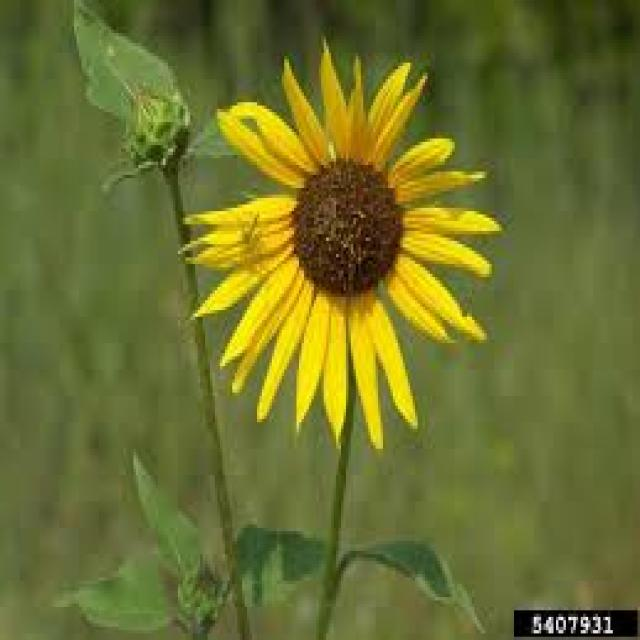sunflower: (172, 22, 510, 464)
